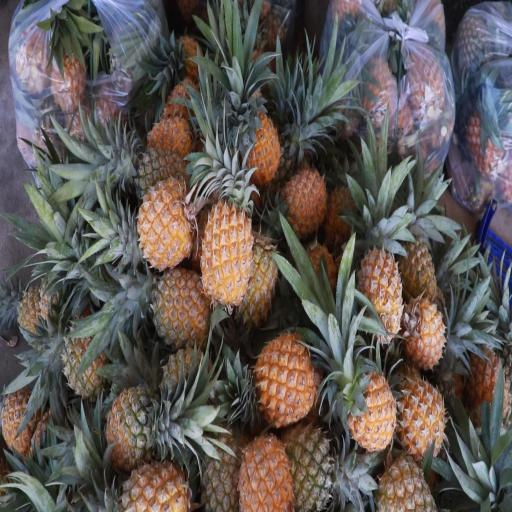------------------------------: (275, 416, 344, 512), (99, 386, 176, 472), (192, 410, 244, 511), (370, 447, 438, 512), (60, 312, 112, 397), (121, 136, 187, 202)
Pineapple - v8 v1: (250, 325, 316, 428), (201, 183, 253, 308), (133, 176, 196, 276), (142, 262, 212, 352), (358, 224, 407, 346), (390, 356, 448, 453), (340, 362, 396, 456), (233, 220, 279, 334), (234, 427, 292, 512), (110, 452, 191, 512), (276, 158, 331, 241), (397, 209, 442, 302), (397, 290, 448, 372), (242, 104, 284, 188)
